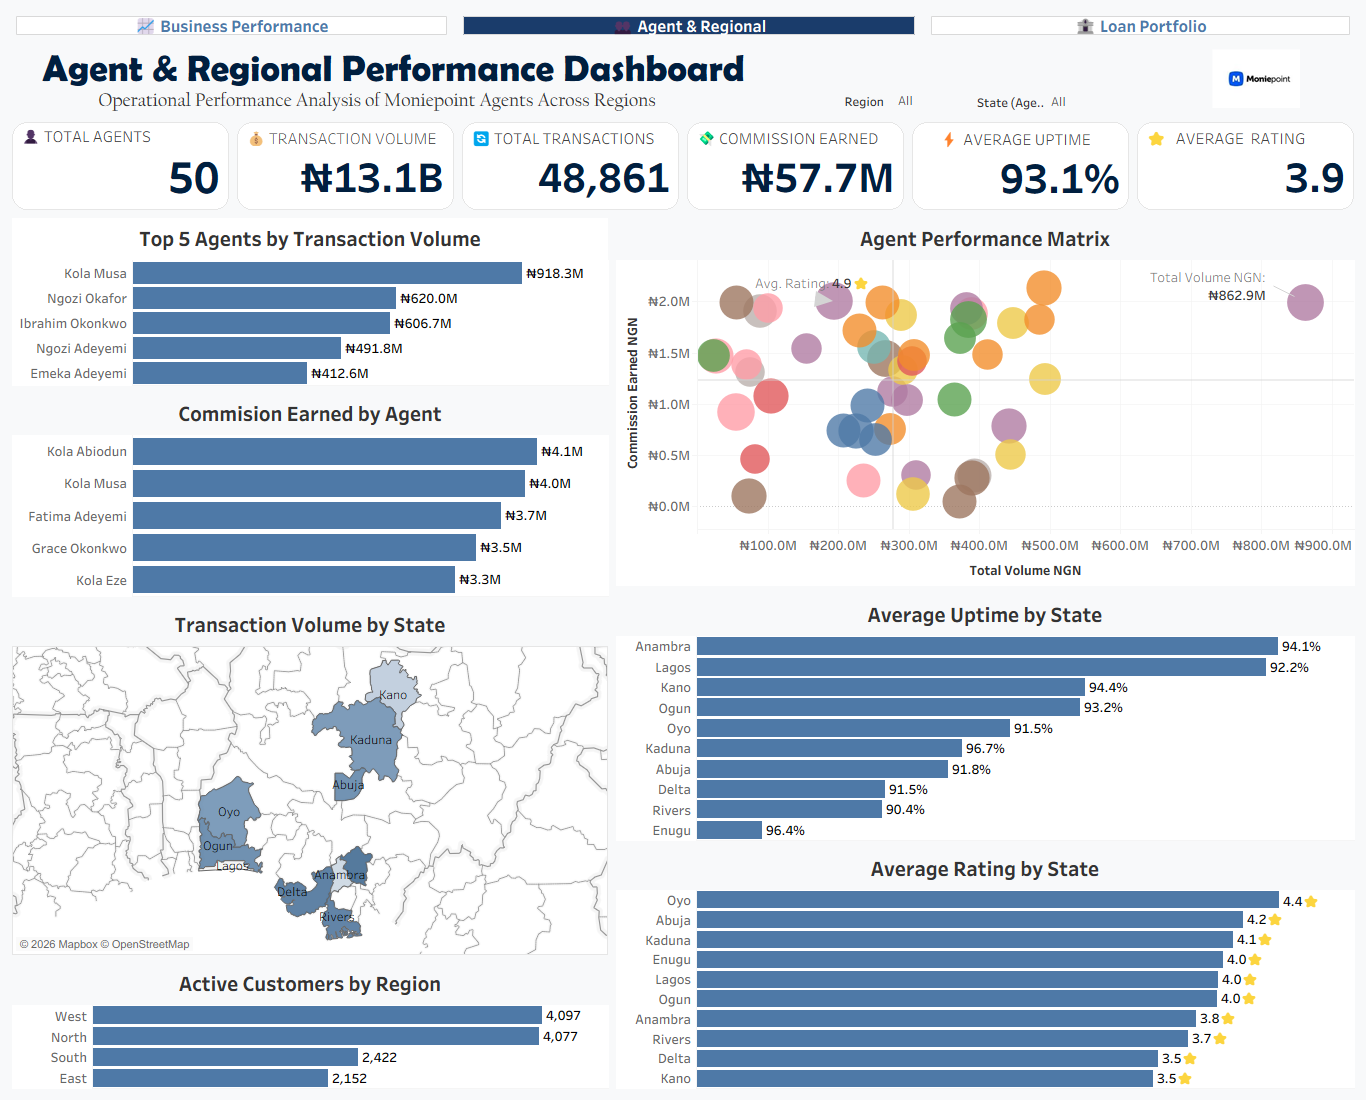

What the dashboard file says about the page in this screenshot:
{"tool":"tableau","page":{"name":"Agent & Regional Performance Dashboard","canvas":[1366,1100],"ordinal":0},"visuals":[{"type":"dashboard-object","box":[8,8,447,35]},{"type":"dashboard-object","box":[455,8,468,35]},{"type":"dashboard-object","box":[923,8,435,35]},{"type":"image","param":"Image/images.jpg","box":[1161,41,191,75]},{"type":"text","box":[8,43,1350,72]},{"type":"filter","title":"Agent Performance Matrix","param":"[federated.0p7jy2t1e3he691fx9l5j1cicvz7].[none:Region:nk]","box":[824,92,149,19]},{"type":"filter","title":"Agent Performance Matrix","param":"[federated.0p7jy2t1e3he691fx9l5j1cicvz7].[none:State (Agent!Performance):nk]","box":[977,93,168,18]},{"type":"worksheet","title":"KPI – Total Agents","mark":"Automatic","box":[8,118,225,96]},{"type":"worksheet","title":"KPI - Transaction Volume","mark":"Automatic","box":[233,118,225,96]},{"type":"worksheet","title":"KPI - Total Transactions","mark":"Automatic","box":[458,118,225,96]},{"type":"worksheet","title":"KPI - Commission","mark":"Automatic","box":[683,118,225,96]},{"type":"worksheet","title":"KPI - Average Uptime","mark":"Automatic","box":[908,118,225,96]},{"type":"worksheet","title":"KPI - Average Rating","mark":"Automatic","box":[1133,118,225,96]},{"type":"worksheet","title":"Top 5 Agents by Transaction Volume","mark":"Bar","rows":["Agent_Name"],"cols":["Total_Volume_NGN"],"box":[8,214,604,175.4]},{"type":"worksheet","title":"Agent Performance Matrix","mark":"Circle","rows":["Commission_Earned_NGN"],"cols":["Total_Volume_NGN"],"box":[612,214,746,375.6]},{"type":"worksheet","title":"Commission Earned by Agent","mark":"Automatic","rows":["Agent_Name"],"cols":["Commission_Earned_NGN"],"box":[8,389.4,604,211]},{"type":"worksheet","title":"Average Uptime by State","mark":"Automatic","rows":["State (Agent!Performance)"],"cols":["Uptime_Percent"],"box":[612,590,746,254]},{"type":"worksheet","title":"Regional Transaction Volume","mark":"Automatic","box":[8,600.4,604,359]},{"type":"worksheet","title":"Average Rating by State","mark":"Automatic","rows":["State (Agent!Performance)"],"cols":["Rating"],"box":[612,844.3,746,247.7]},{"type":"worksheet","title":"Active Customers by Region","mark":"Automatic","rows":["Region"],"cols":["Active_Customers"],"box":[8,959.4,604,132.6]}]}

Visuals, with their boxes in screenshot pixels (x1, y1, x2, y2), scaled from the page's 1366x1100 canvas onto the 1366x1100 screenshot:
dashboard-object: [8,8,455,43]
dashboard-object: [455,8,923,43]
dashboard-object: [923,8,1358,43]
image: [1161,41,1352,116]
text: [8,43,1358,115]
"Agent Performance Matrix" filter: [824,92,973,111]
"Agent Performance Matrix" filter: [977,93,1145,111]
"KPI – Total Agents" worksheet: [8,118,233,214]
"KPI - Transaction Volume" worksheet: [233,118,458,214]
"KPI - Total Transactions" worksheet: [458,118,683,214]
"KPI - Commission" worksheet: [683,118,908,214]
"KPI - Average Uptime" worksheet: [908,118,1133,214]
"KPI - Average Rating" worksheet: [1133,118,1358,214]
"Top 5 Agents by Transaction Volume" worksheet (Bar marks): [8,214,612,389]
"Agent Performance Matrix" worksheet (Circle marks): [612,214,1358,590]
"Commission Earned by Agent" worksheet: [8,389,612,600]
"Average Uptime by State" worksheet: [612,590,1358,844]
"Regional Transaction Volume" worksheet: [8,600,612,959]
"Average Rating by State" worksheet: [612,844,1358,1092]
"Active Customers by Region" worksheet: [8,959,612,1092]
